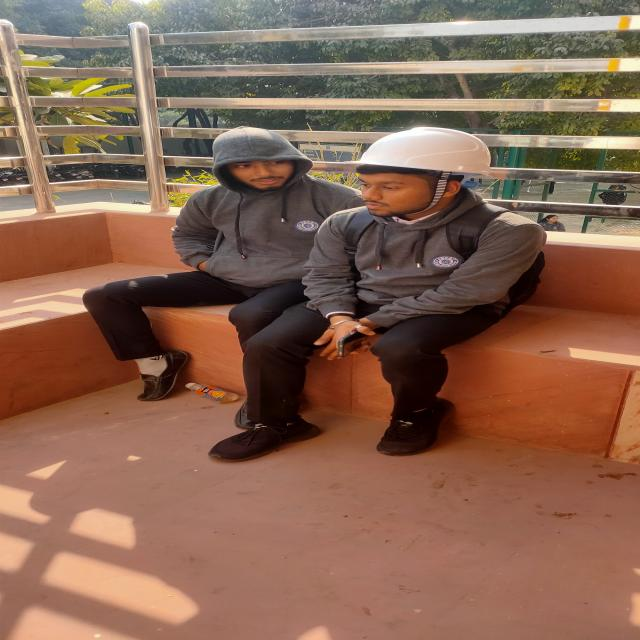no jacket: (220, 126, 544, 478)
unsafe: (80, 123, 318, 314), (602, 184, 632, 205), (539, 213, 565, 232)
